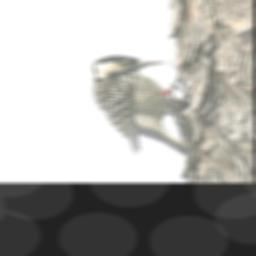Woodpecker: (92, 55, 194, 157)
